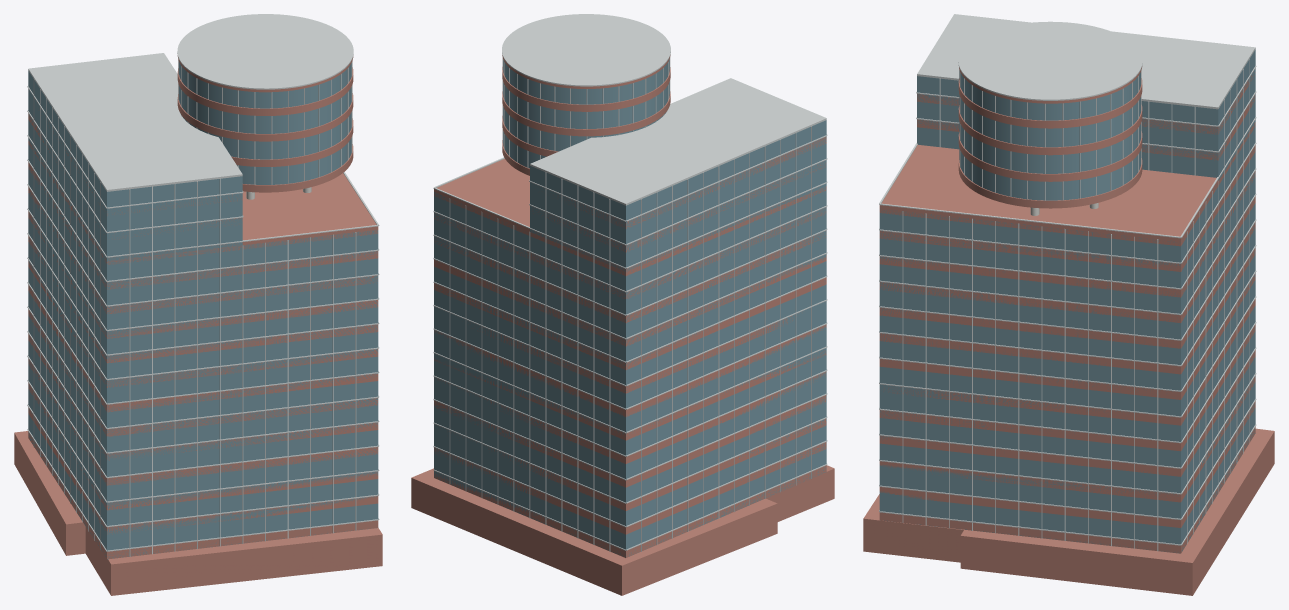
The model's file is lks.glb.
3 views of the same model, side by side, from view 1: azimuth 30°, elevation 25°; view 2: azimuth 150°, elevation 25°; view 3: azimuth 270°, elevation 25° (orthographic). The views are drawn at different scales.
Visible parts, largest first — view 1: LKS_tower_body, LKS_upper_wing_roof, LKS_annex, LKS_rectangular_upper_wing, DETAIL_window_batch_LKS_metal, LKS_drum_roof, LKS_executive_drum, LKS_spandrel_12, LKS_spandrel_0, LKS_spandrel_6, LKS_spandrel_3, LKS_spandrel_5 (+26 smaller); view 2: LKS_tower_body, LKS_rectangular_upper_wing, LKS_upper_wing_roof, LKS_annex, DETAIL_window_batch_LKS_metal, LKS_drum_roof, LKS_executive_drum, LKS_spandrel_12, LKS_spandrel_8, LKS_spandrel_9, LKS_spandrel_0, LKS_spandrel_3 (+12 smaller); view 3: LKS_tower_body, LKS_annex, LKS_spandrel_12, LKS_executive_drum, DETAIL_window_batch_LKS_metal, LKS_drum_roof, LKS_rectangular_upper_wing, LKS_upper_wing_roof, LKS_spandrel_3, LKS_spandrel_8, LKS_spandrel_6, LKS_spandrel_7 (+28 smaller).
Part boxes in pixels (left/top/right/bottom): LKS_tower_body: left=28, top=140, right=378, bottom=559; LKS_upper_wing_roof: left=28, top=53, right=242, bottom=191; LKS_annex: left=14, top=431, right=382, bottom=595; LKS_rectangular_upper_wing: left=28, top=71, right=242, bottom=260; DETAIL_window_batch_LKS_metal: left=33, top=60, right=356, bottom=556; LKS_drum_roof: left=177, top=14, right=353, bottom=89; LKS_executive_drum: left=179, top=62, right=351, bottom=184; LKS_spandrel_12: left=28, top=140, right=378, bottom=264; LKS_spandrel_0: left=28, top=432, right=378, bottom=558; LKS_spandrel_6: left=28, top=285, right=378, bottom=412; LKS_spandrel_3: left=28, top=359, right=378, bottom=485; LKS_spandrel_5: left=28, top=309, right=378, bottom=436; LKS_tower_body: left=434, top=186, right=826, bottom=557; LKS_rectangular_upper_wing: left=530, top=120, right=826, bottom=271; LKS_upper_wing_roof: left=530, top=78, right=826, bottom=205; LKS_annex: left=411, top=465, right=834, bottom=595; DETAIL_window_batch_LKS_metal: left=449, top=57, right=811, bottom=551; LKS_drum_roof: left=502, top=14, right=670, bottom=86; LKS_executive_drum: left=503, top=59, right=669, bottom=168; LKS_spandrel_12: left=434, top=159, right=826, bottom=275; LKS_spandrel_8: left=434, top=277, right=826, bottom=369; LKS_spandrel_9: left=434, top=255, right=826, bottom=346; LKS_spandrel_0: left=434, top=465, right=826, bottom=557; LKS_spandrel_3: left=434, top=395, right=826, bottom=487; LKS_tower_body: left=879, top=122, right=1255, bottom=553; LKS_annex: left=863, top=428, right=1274, bottom=595; LKS_spandrel_12: left=879, top=122, right=1255, bottom=246; LKS_executive_drum: left=959, top=71, right=1140, bottom=200; DETAIL_window_batch_LKS_metal: left=902, top=59, right=1249, bottom=551; LKS_drum_roof: left=958, top=21, right=1142, bottom=100; LKS_rectangular_upper_wing: left=917, top=49, right=1255, bottom=180; LKS_upper_wing_roof: left=917, top=14, right=1255, bottom=109; LKS_spandrel_3: left=879, top=350, right=1255, bottom=476; LKS_spandrel_8: left=879, top=222, right=1255, bottom=348; LKS_spandrel_6: left=879, top=274, right=1255, bottom=399; LKS_spandrel_7: left=879, top=248, right=1255, bottom=374.
Bounding box in the file's own units: 44.85 × 60.8 × 47.54.
